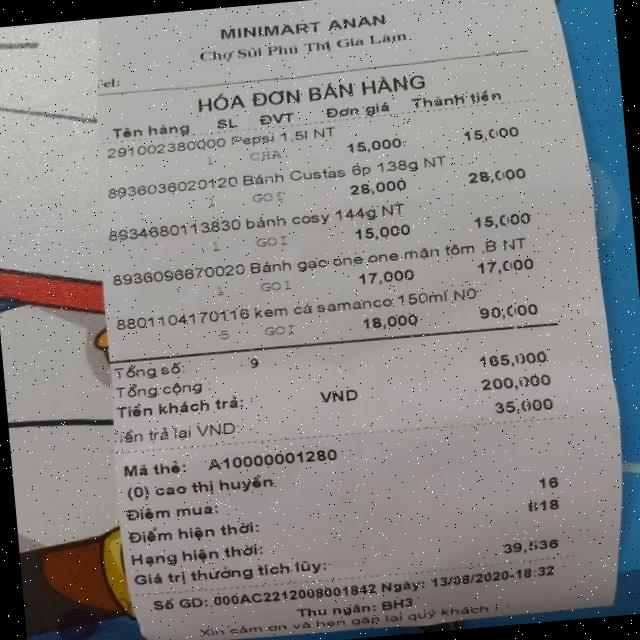Date: (432, 568, 511, 588)
Store_Name: (218, 7, 392, 44)
amount_number: (473, 348, 550, 370)
label_total: (112, 377, 204, 402)
